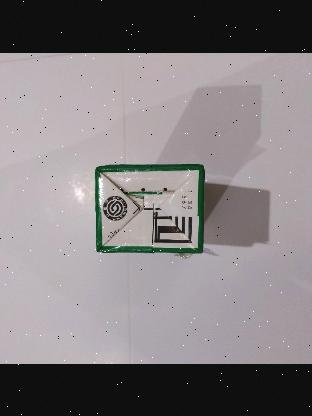Others: (95, 162, 206, 258)
